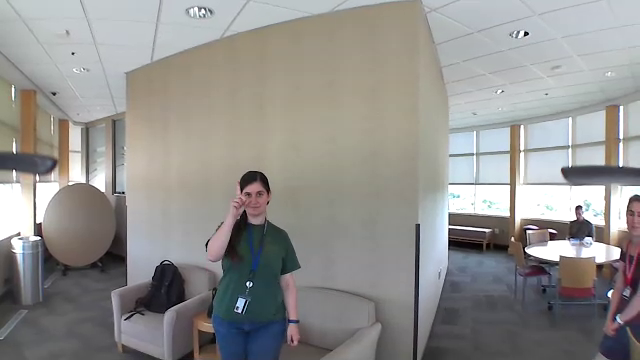up: (225, 176, 252, 223)
